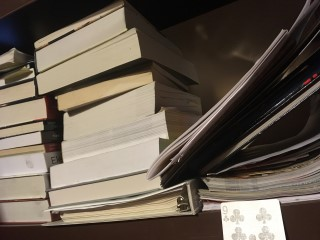NineOfClubs: (220, 199, 286, 240)
